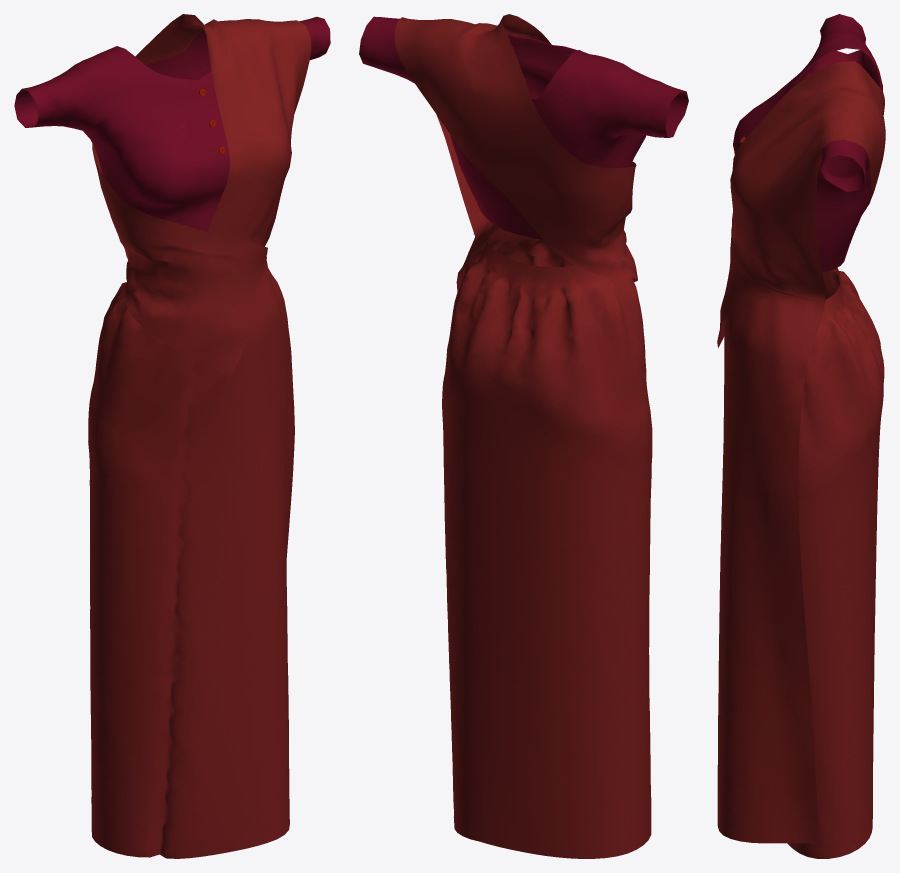
File: mom_dress_saree_and_blouse.glb
The picture shows the model from 3 angles, left to right: view 1: azimuth 30°, elevation 25°; view 2: azimuth 150°, elevation 25°; view 3: azimuth 270°, elevation 25°; orthographic projection. The views are drawn at different scales.
Visible parts, largest first — view 1: shari_fainal1:Pattern2D_92580, blaus_kapor; view 2: shari_fainal1:Pattern2D_92580, blaus_kapor; view 3: shari_fainal1:Pattern2D_92580, blaus_kapor.
Part boxes in pixels (bbox=[...]): shari_fainal1:Pattern2D_92580: bbox=[88, 14, 311, 858]; blaus_kapor: bbox=[14, 16, 330, 231]; shari_fainal1:Pattern2D_92580: bbox=[394, 14, 652, 858]; blaus_kapor: bbox=[359, 16, 688, 239]; shari_fainal1:Pattern2D_92580: bbox=[717, 61, 885, 858]; blaus_kapor: bbox=[733, 14, 882, 271].
Size of the model in its own units: 33.16 by 85.18 by 16.8.
Materials: 4 (4 with a texture image).
